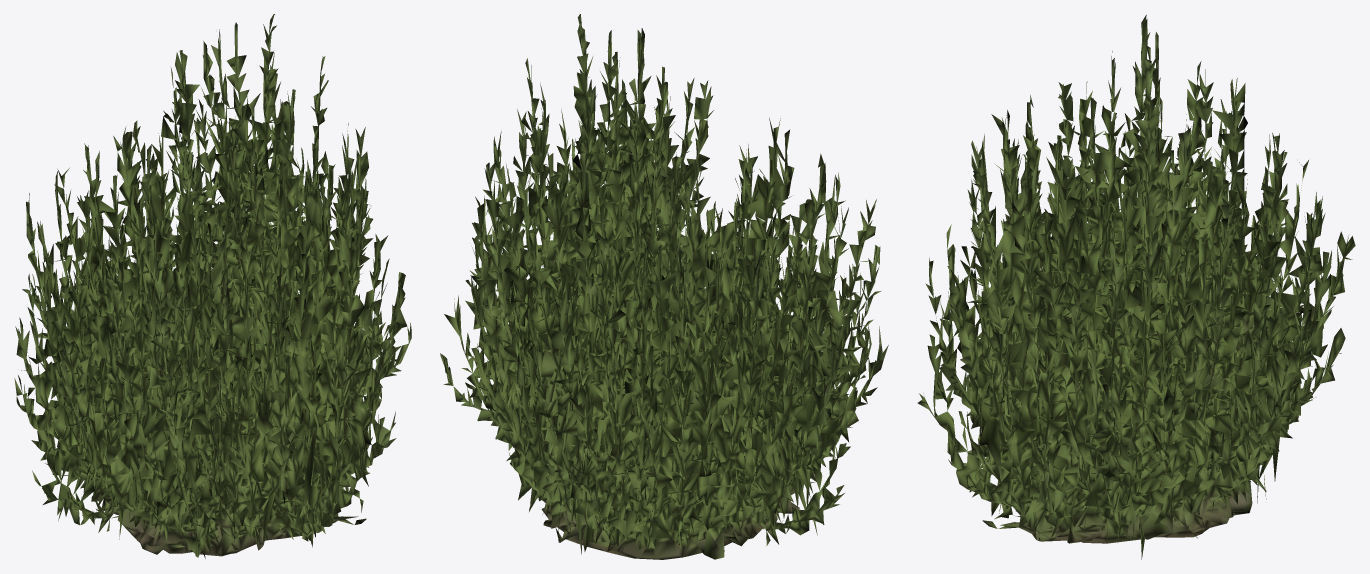
Rendered from rosemary.glb.
3 views of the same model, side by side, from view 1: azimuth 30°, elevation 25°; view 2: azimuth 150°, elevation 25°; view 3: azimuth 270°, elevation 25° (orthographic). The views are drawn at different scales.
Visible parts, largest first — view 1: Mesh_0.001; view 2: Mesh_0.001; view 3: Mesh_0.001.
Part boxes in pixels (box(x1,y1,x2,y2)): Mesh_0.001: box(14, 14, 411, 558); Mesh_0.001: box(440, 14, 888, 559); Mesh_0.001: box(917, 14, 1355, 559).
Size of the model in its own units: 1.2 by 1.5 by 1.2.
